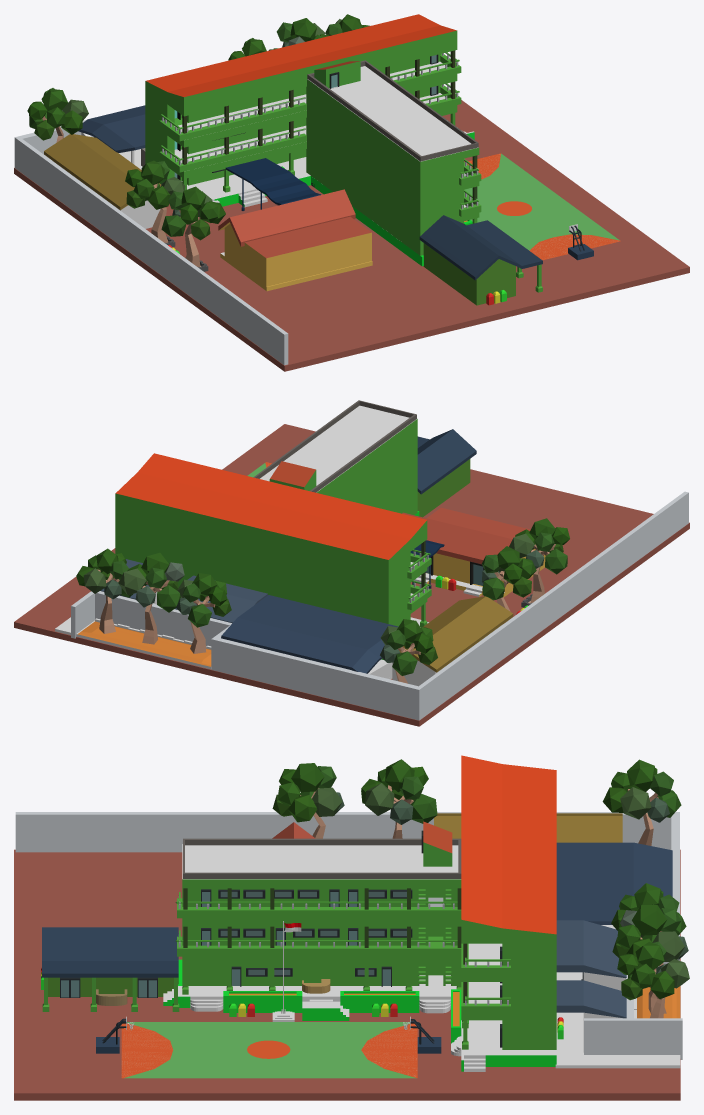
File: sekolah UJI COBA.glb
3 renders of one model, top to bottom at view 1: azimuth 30°, elevation 25°; view 2: azimuth 150°, elevation 25°; view 3: azimuth 270°, elevation 25°, orthographic. The views are drawn at different scales.
Visible parts, largest first — view 1: Plane, bangunan lantai 2.003, Plane.002, Plane.001, bangunan lantai 2.002, ruang ukas dan ruang osis, Cube.047, bangunan lantai 2, bangunan lantai 2.001, Cube.006, bangunan lantai satu, bangunan lantai 1 (+4 smaller); view 2: Plane.001, bangunan lantai 2.003, Plane, bangunan lantai 2, Plane.002, bangunan lantai 2.002, ruang ukas dan ruang osis, Cube.006, Cube.047, Cube.008, bangunan lantai 2.001, pembatas rooftop (+6 smaller); view 3: Plane, Plane.001, Plane.002, bangunan lantai 2.003, bangunan lantai 2.002, lantai.001, bangunan lantai 2.001, Cube.047, bangunan lantai satu, pembatas rooftop, Cube.008, bangunan lantai 2 (+17 smaller).
Part boxes in pixels (x1=…): Plane: x1=15, y1=100, x2=689, y2=365; bangunan lantai 2.003: x1=145, y1=14, x2=461, y2=141; Plane.002: x1=14, y1=101, x2=689, y2=371; Plane.001: x1=14, y1=105, x2=288, y2=365; bangunan lantai 2.002: x1=161, y1=52, x2=481, y2=192; ruang ukas dan ruang osis: x1=218, y1=189, x2=372, y2=291; Cube.047: x1=419, y1=215, x2=542, y2=305; bangunan lantai 2: x1=145, y1=61, x2=461, y2=172; bangunan lantai 2.001: x1=161, y1=83, x2=481, y2=224; Cube.006: x1=44, y1=134, x2=161, y2=228; bangunan lantai satu: x1=306, y1=142, x2=479, y2=255; bangunan lantai 1: x1=145, y1=93, x2=457, y2=192; Plane.001: x1=71, y1=491, x2=688, y2=720; bangunan lantai 2.003: x1=115, y1=453, x2=431, y2=591; Plane: x1=14, y1=424, x2=689, y2=720; bangunan lantai 2: x1=115, y1=525, x2=431, y2=622; Plane.002: x1=14, y1=425, x2=689, y2=726; bangunan lantai 2.002: x1=260, y1=405, x2=430, y2=571; ruang ukas dan ruang osis: x1=402, y1=507, x2=545, y2=597; Cube.006: x1=382, y1=596, x2=513, y2=686; Cube.047: x1=417, y1=429, x2=476, y2=517; Cube.008: x1=55, y1=617, x2=392, y2=679; bangunan lantai 2.001: x1=348, y1=450, x2=430, y2=602; pembatas rooftop: x1=253, y1=400, x2=416, y2=492; Plane: x1=14, y1=849, x2=680, y2=1093; Plane.001: x1=15, y1=812, x2=682, y2=1059; Plane.002: x1=14, y1=852, x2=680, y2=1100; bangunan lantai 2.003: x1=461, y1=755, x2=556, y2=975; bangunan lantai 2.002: x1=175, y1=844, x2=510, y2=966; lantai.001: x1=163, y1=959, x2=556, y2=1071; bangunan lantai 2.001: x1=176, y1=897, x2=510, y2=1005; Cube.047: x1=42, y1=927, x2=178, y2=996; bangunan lantai satu: x1=182, y1=936, x2=461, y2=994; pembatas rooftop: x1=183, y1=838, x2=461, y2=878; Cube.008: x1=555, y1=925, x2=680, y2=1068; bangunan lantai 2: x1=461, y1=943, x2=556, y2=1013.
Bounding box in the file's own units: 26.69 × 8.19 × 31.3.
